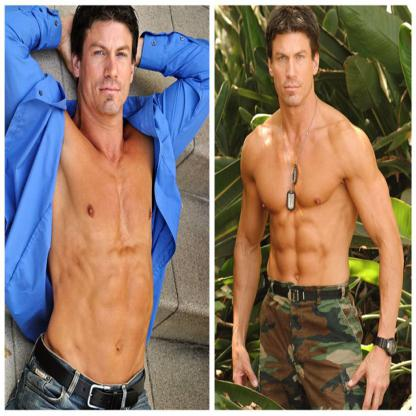face: (81, 21, 133, 116), (273, 34, 314, 107)
